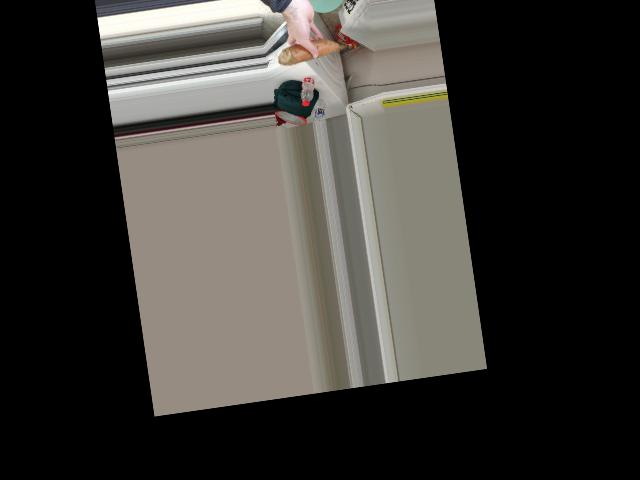sweet_potato: (285, 37, 339, 59)
